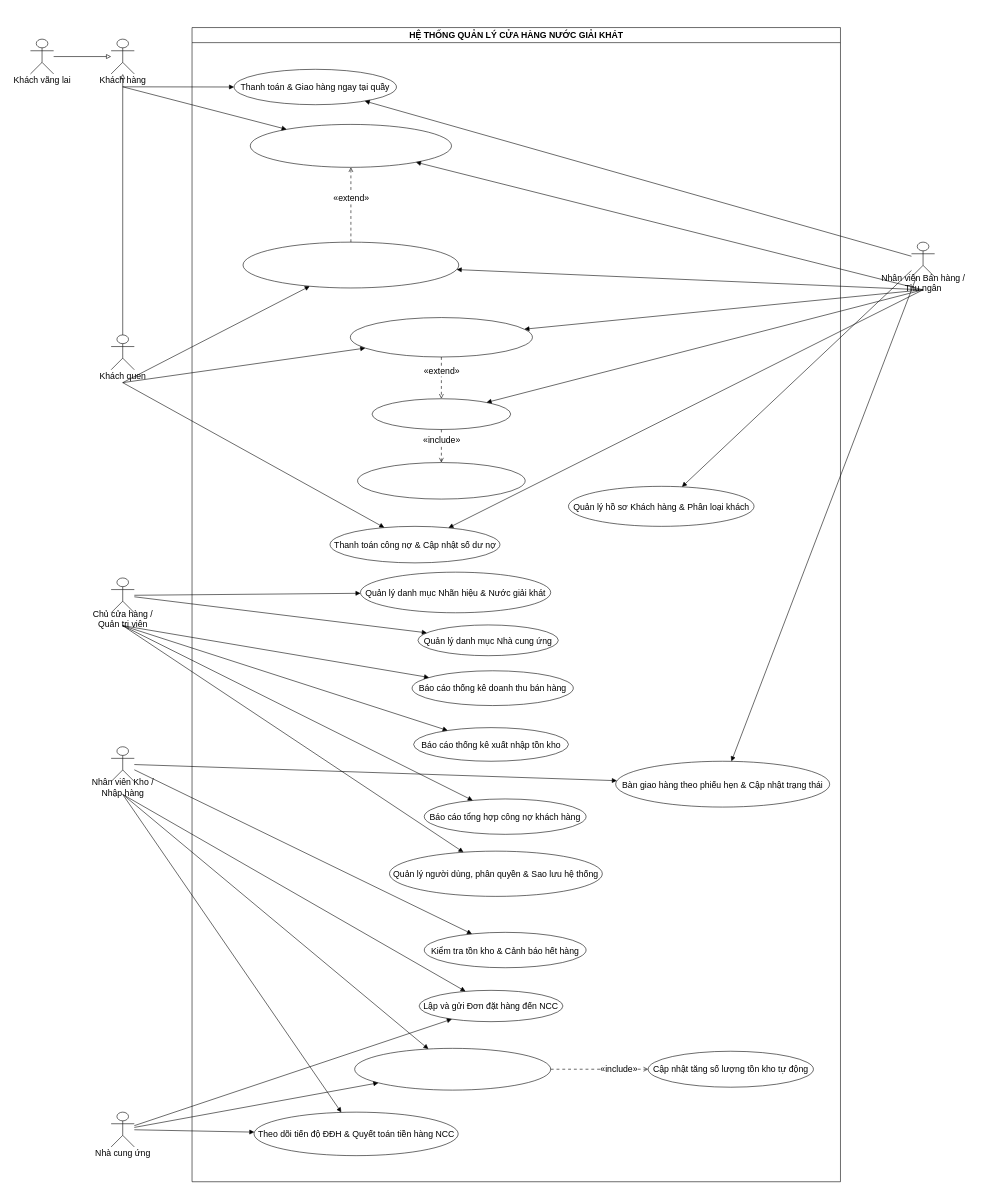
Some shapes in this 1001 by 1192 pixel diagram are drawn without their labels. The shapes that lost their labels are listed below. From the top down, each one's centre as x and y in pixels, then its label:
(x=351, y=145): Tiếp nhận yêu cầu mua hàng & Kiểm tra tồn kho
(x=350, y=265): Lập Phiếu hẹn giao hàng nhiều đợt (khi thiếu hàng)
(x=441, y=337): Lập Phiếu ghi nợ cho Khách quen trả chậm
(x=441, y=413): Lập Hóa đơn tính tiền bán hàng
(x=441, y=480): Cập nhật giảm số lượng tồn kho tự động
(x=452, y=1069): Tiếp nhận & Ghi nhận Phiếu giao hàng theo đợt
